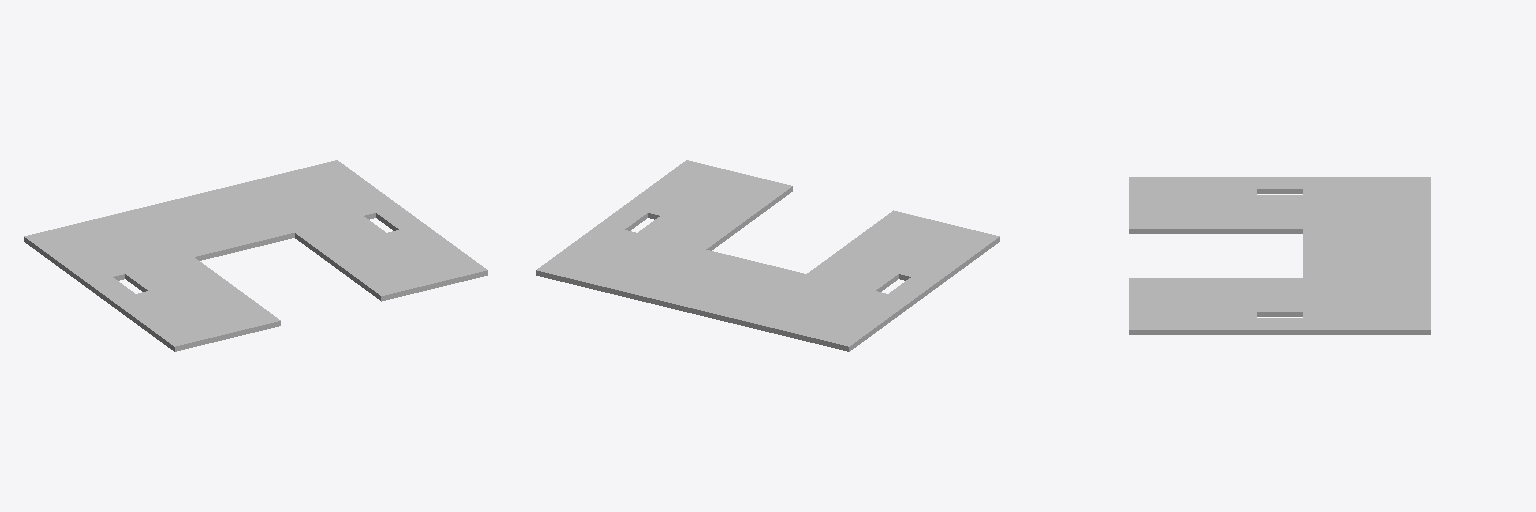
The model's file is barquidou solo flotador.obj.
The picture shows the model from 3 angles: view 1: azimuth 30°, elevation 25°; view 2: azimuth 150°, elevation 25°; view 3: azimuth 270°, elevation 25°; orthographic projection.
Size of the model in its own units: 125 by 2 by 104.